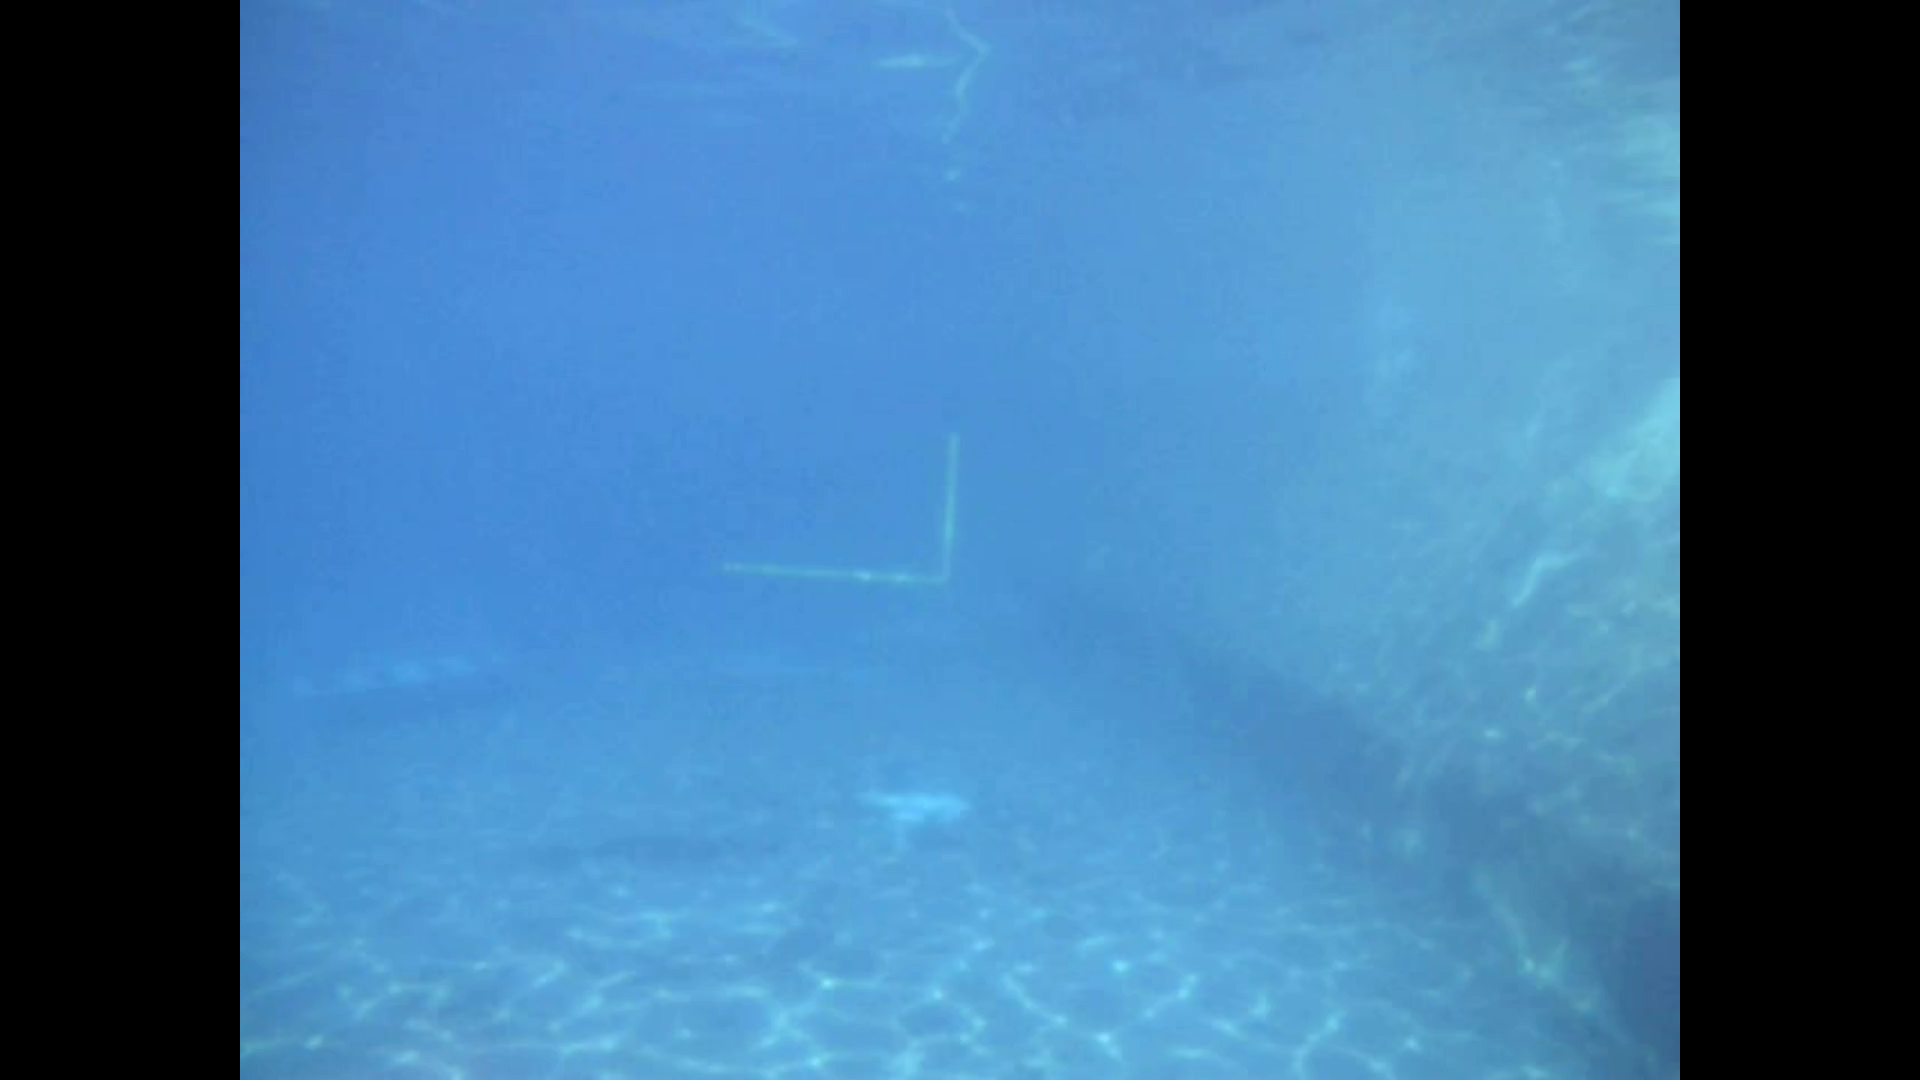gate: (711, 427, 964, 589)
